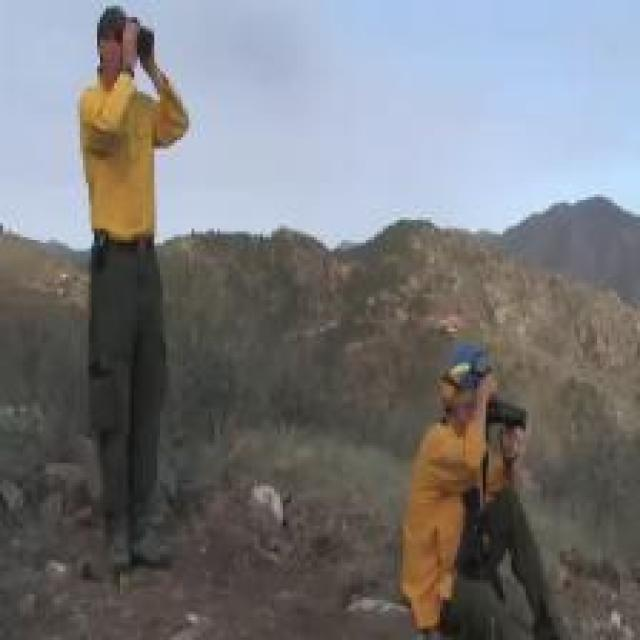other: (49, 49, 202, 255), (384, 382, 508, 588)
